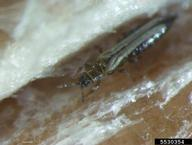Thrips: (84, 9, 178, 109)
